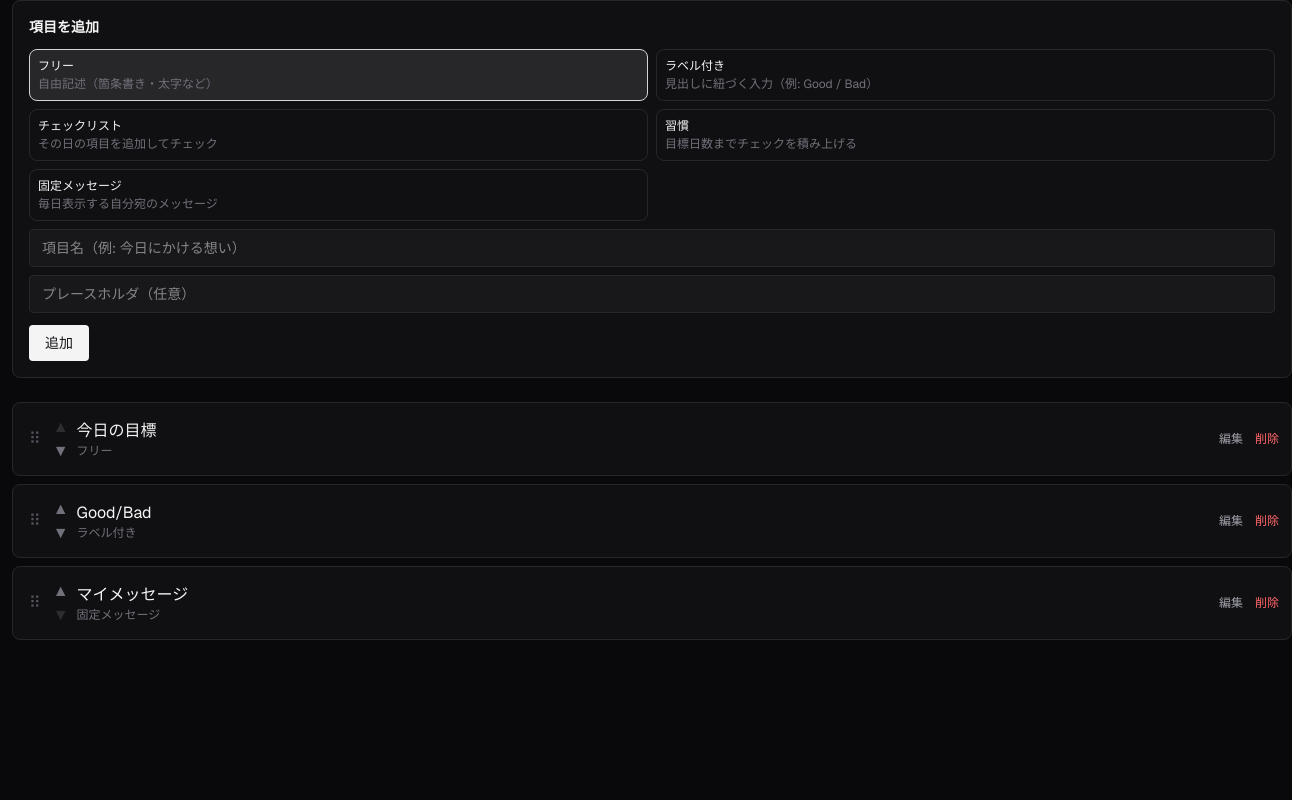
Test: ComponentManager（編集・削除） › 編集を開くと現在の設定を表示し、更新で updateComponent を呼ぶ
Click the button "編集" in the row of "Good/Bad" at x=1231, y=521, box [1219,513,1243,529]
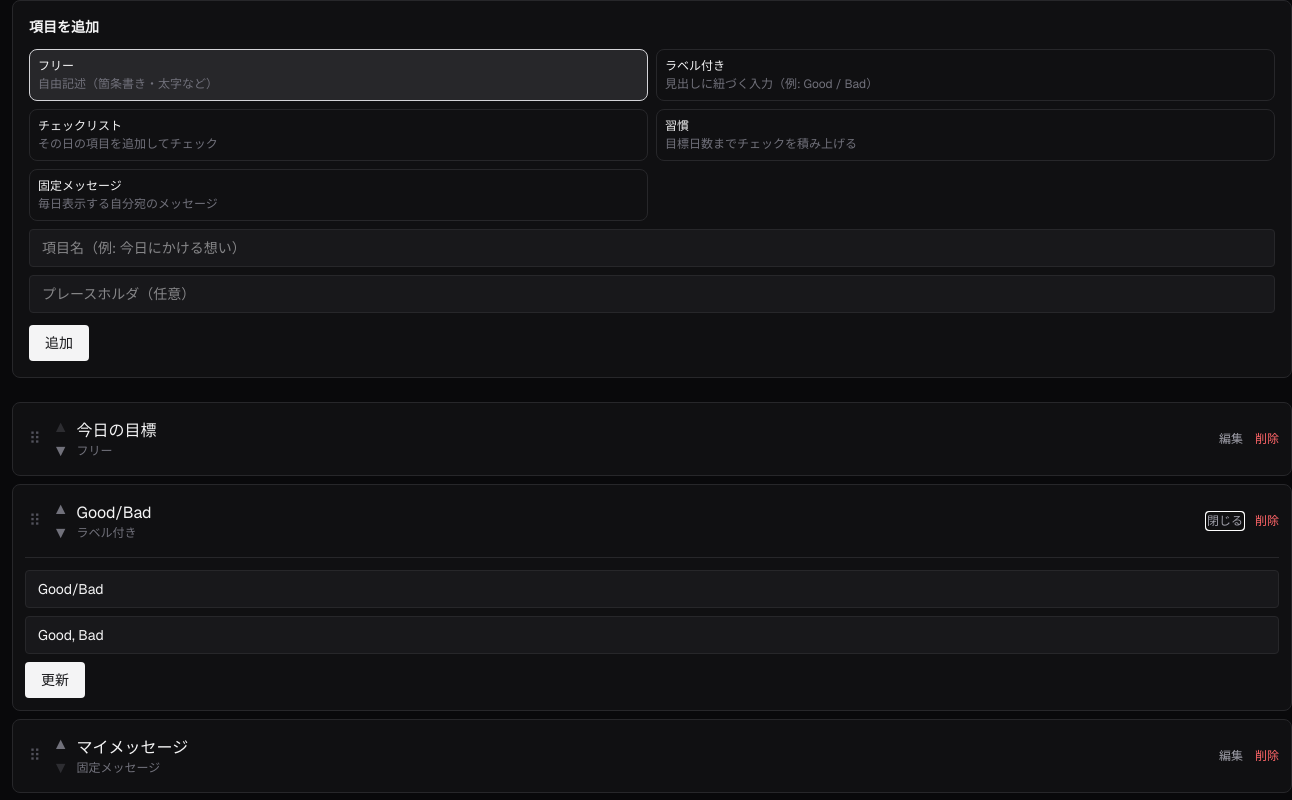
Now the 2nd field with placeholder "ラベル（カンマ区切り）" holds "Good, Bad"
Replace the text in the 2nd field with placeholder "ラベル（カンマ区切り）" with "Good, Bad, Next" at x=652, y=635, box [25,616,1279,654]
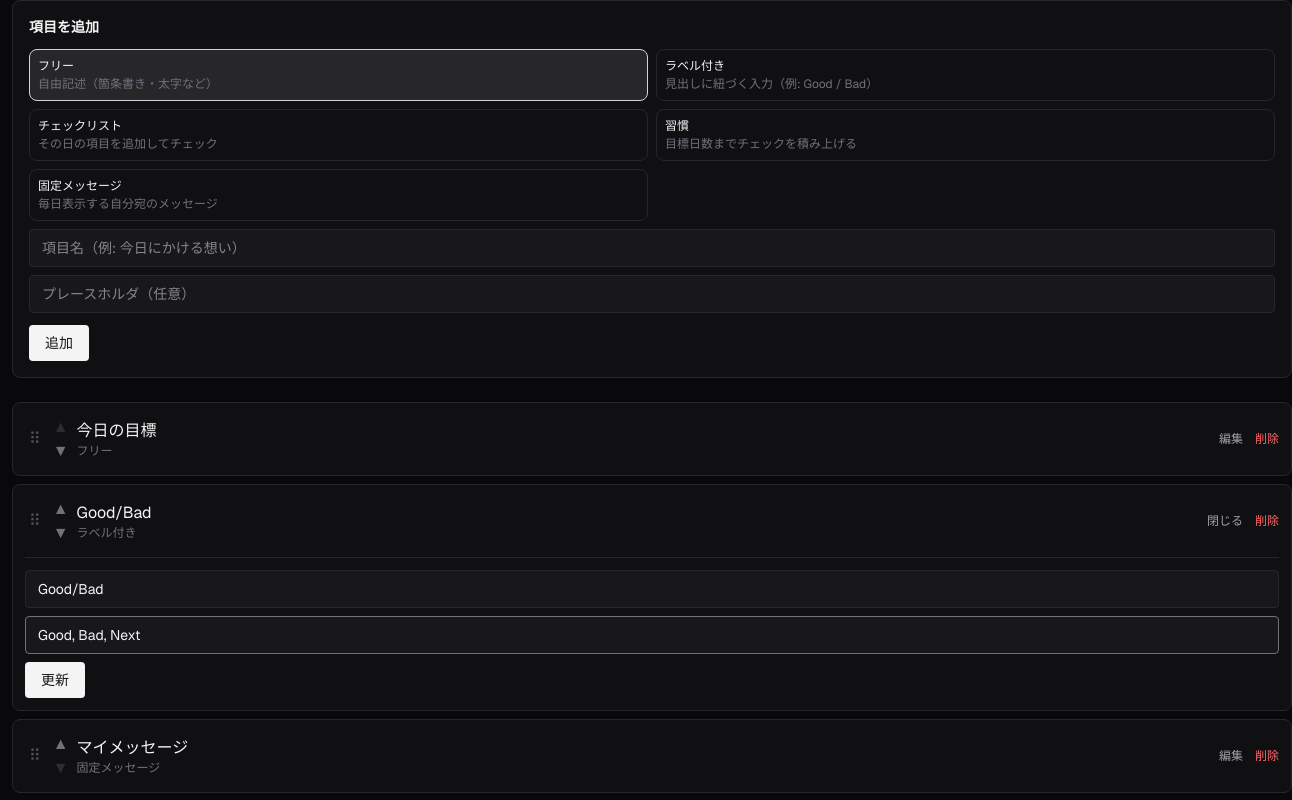
Click the button "更新" at x=55, y=680, box [25,662,85,698]
(page scrolled)
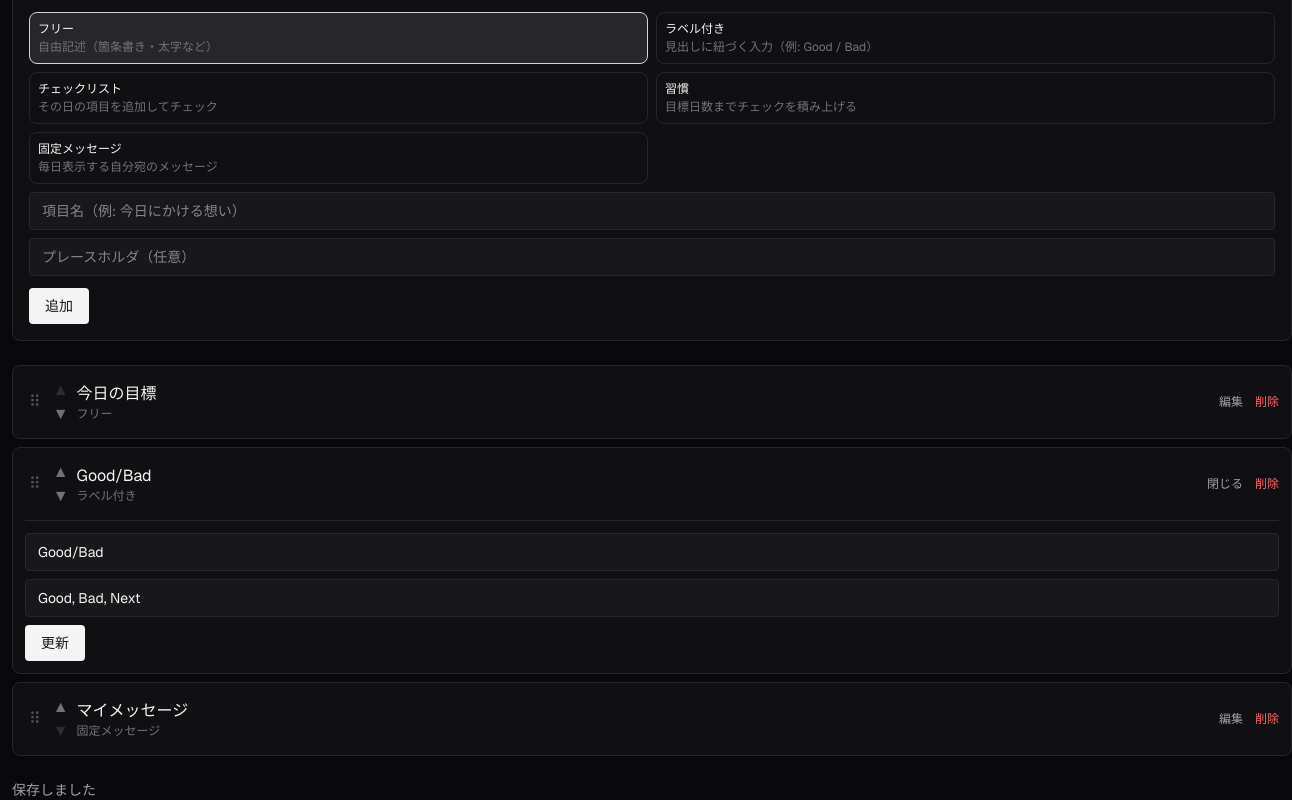
Now the text "保存しました" is shown, box [12,781,96,799]
